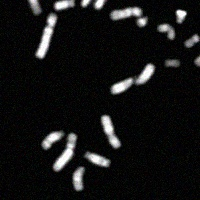chromosome: (110, 63, 153, 94), (35, 12, 57, 59), (52, 133, 77, 170), (101, 114, 121, 148), (41, 130, 64, 150), (84, 151, 110, 167), (111, 8, 143, 20), (16, 0, 41, 13), (72, 165, 83, 190), (158, 23, 174, 40), (184, 34, 200, 48), (95, 0, 115, 10), (55, 0, 75, 9), (164, 58, 180, 69), (175, 9, 186, 24), (81, 0, 99, 8), (137, 15, 149, 26), (194, 47, 200, 66)
